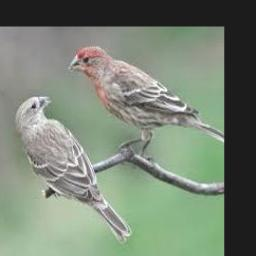Sparrow: (69, 46, 224, 157), (15, 96, 132, 243)
